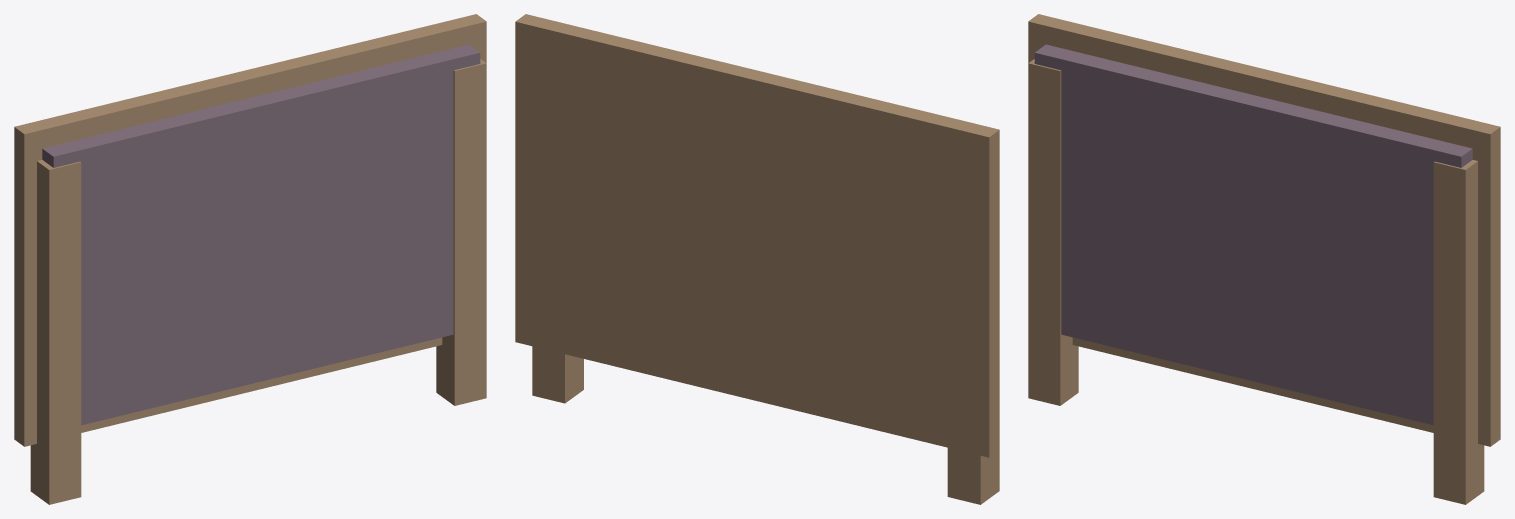
Rendered from RecentFindsBoard.glb.
The picture shows the model from 3 angles, left to right: view 1: azimuth 30°, elevation 25°; view 2: azimuth 150°, elevation 25°; view 3: azimuth 330°, elevation 25°; orthographic projection. The views are drawn at different scales.
Visible parts, largest first — view 1: RecentFindsBoard_0, RecentFindsBoard_1; view 2: RecentFindsBoard_1; view 3: RecentFindsBoard_0, RecentFindsBoard_1.
Part boxes in pixels (box(x1,y1,x2,y2)): RecentFindsBoard_0: box(42, 44, 480, 425); RecentFindsBoard_1: box(14, 14, 486, 504); RecentFindsBoard_1: box(515, 14, 999, 504); RecentFindsBoard_0: box(1034, 44, 1472, 425); RecentFindsBoard_1: box(1028, 14, 1500, 504).
Size of the model in its own units: 13 by 9.8 by 1.1.
